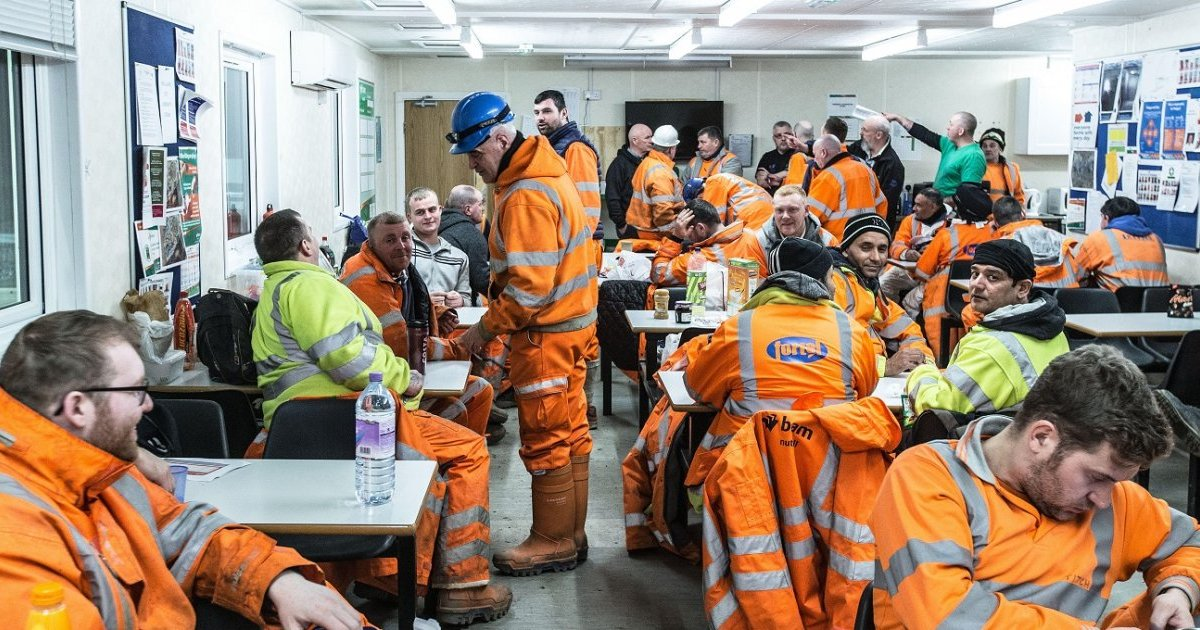No Safety Helmet: (1015, 339, 1174, 524), (7, 291, 166, 469), (962, 228, 1051, 327), (244, 196, 337, 287), (838, 205, 898, 294), (364, 203, 420, 281), (528, 84, 581, 151), (443, 174, 488, 236), (764, 179, 813, 235), (934, 99, 981, 157), (407, 179, 445, 250), (900, 180, 946, 233), (852, 109, 897, 162), (974, 118, 1012, 172), (621, 117, 658, 164), (689, 123, 728, 164)
Safety Helmet: (428, 80, 538, 187), (650, 116, 681, 165)
